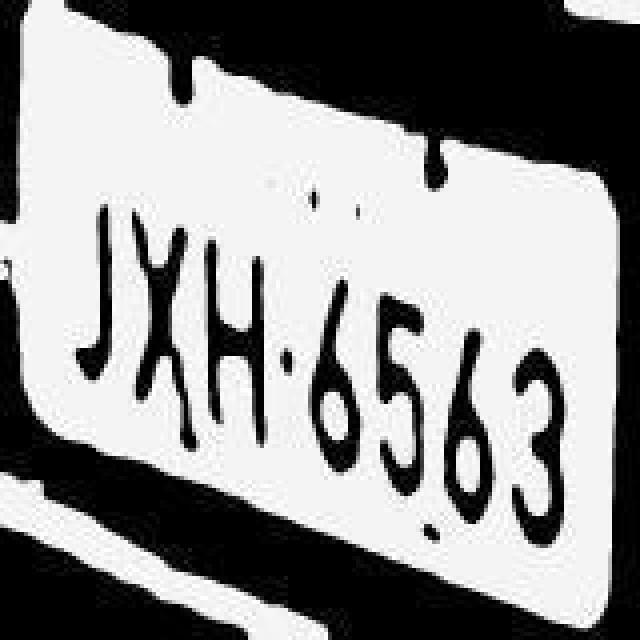3: (508, 310, 580, 570)
5: (372, 266, 436, 518)
6: (310, 254, 370, 514), (442, 298, 502, 534)
H: (200, 232, 280, 448)
J: (66, 126, 126, 418)
X: (134, 188, 202, 420)
